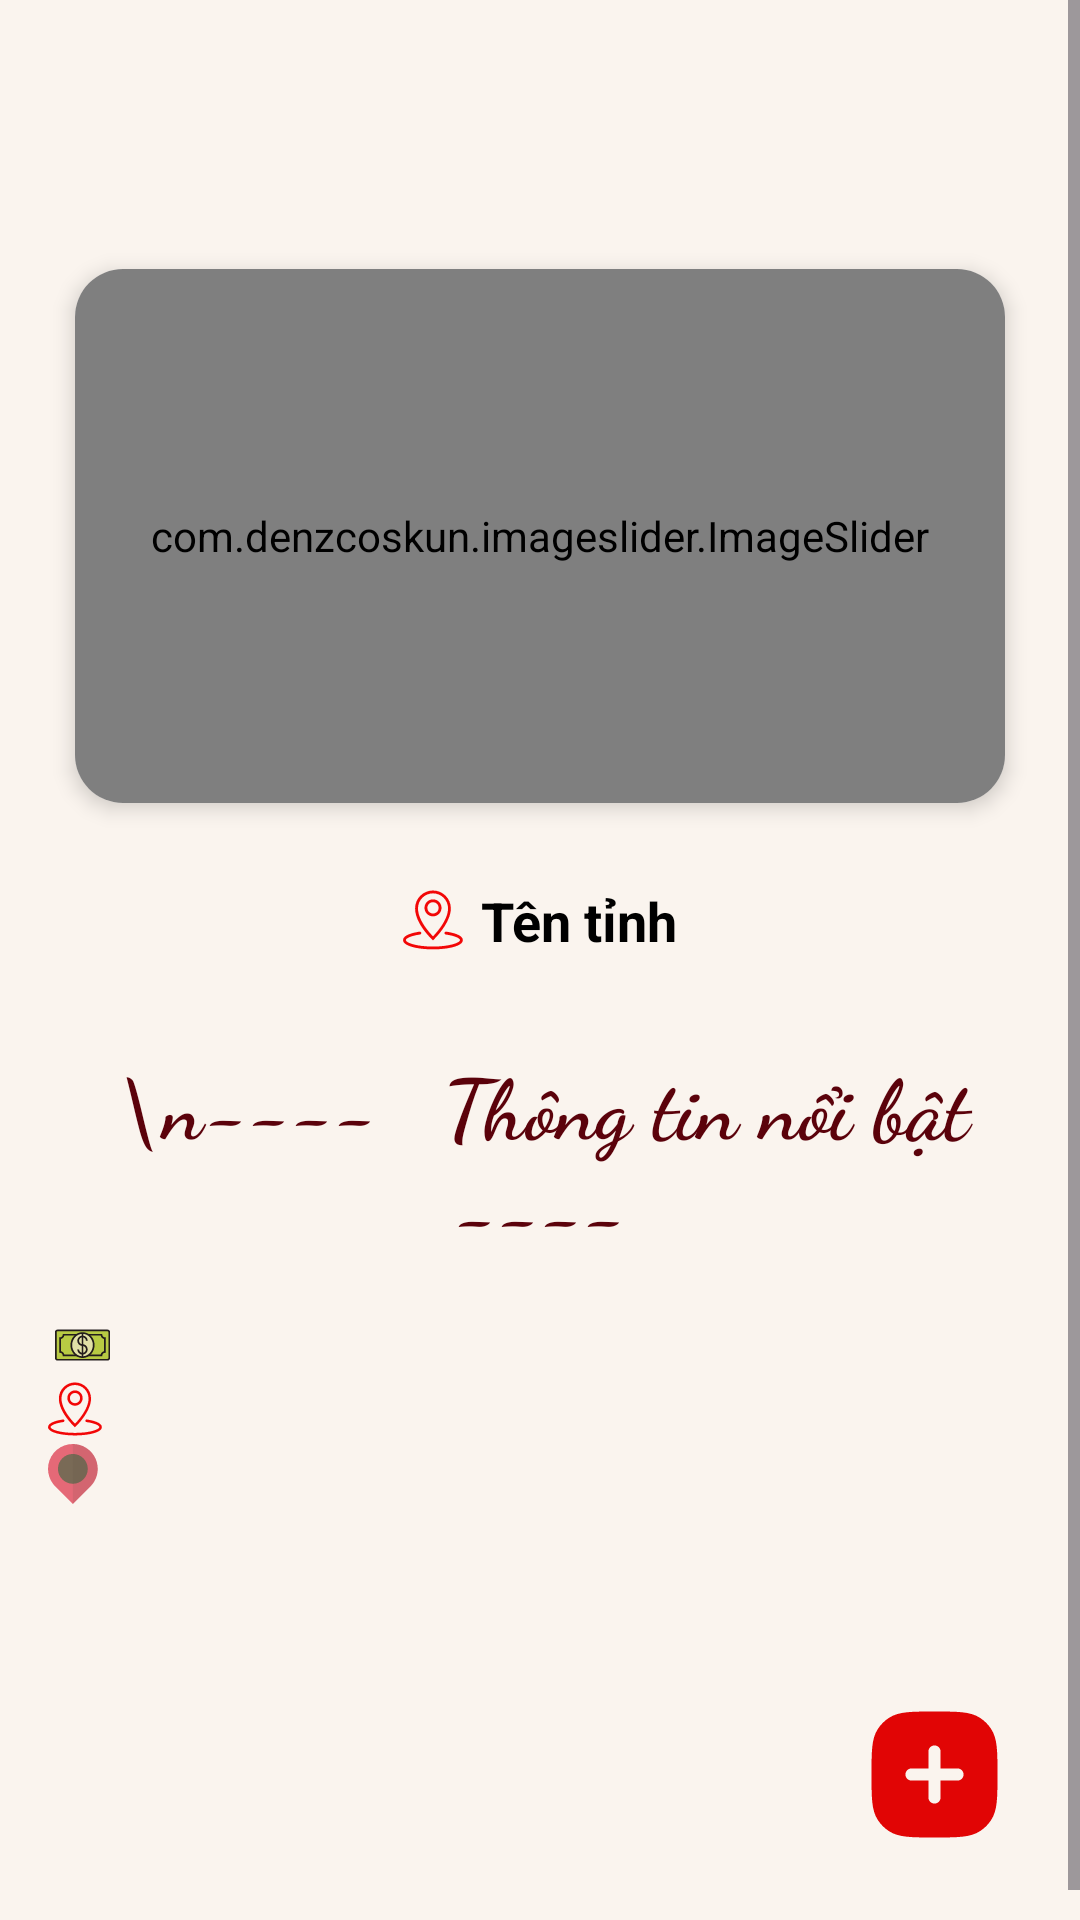

Named icons in this screenshot (1080*1920) and their bounding boxes, rect(x1, y1, x2, y2):
Thêm đánh giá: rect(871, 1711, 998, 1838)
